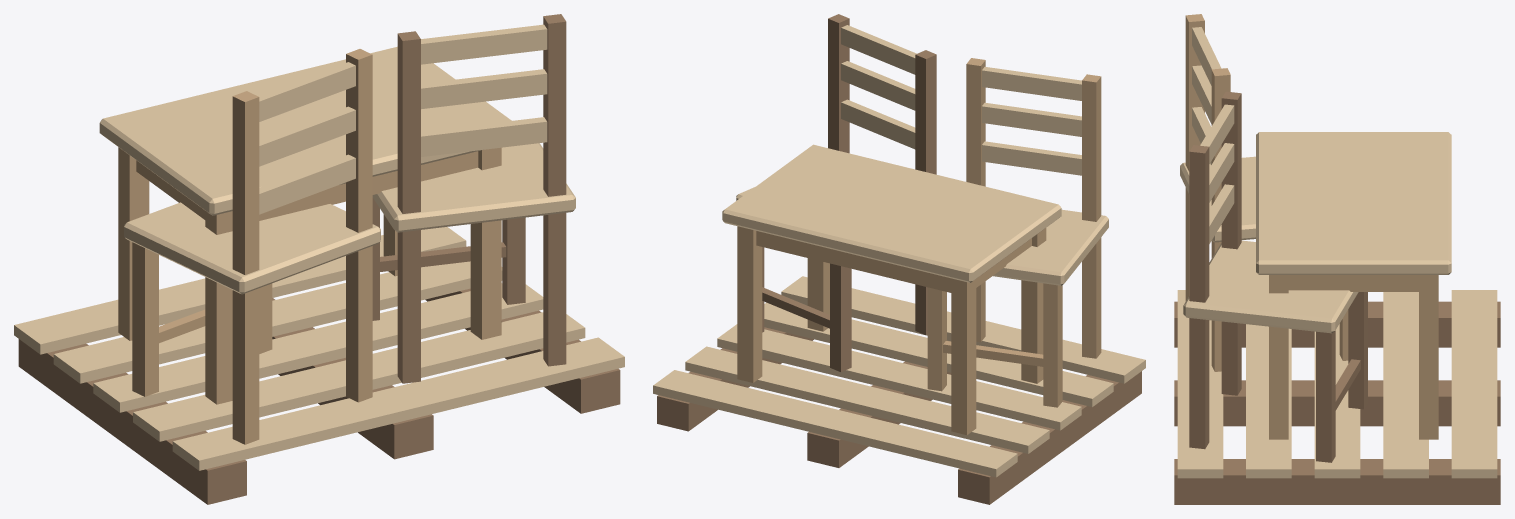
Rendered from FurniturePiece.fbx.
The picture shows the model from 3 angles, left to right: view 1: azimuth 30°, elevation 25°; view 2: azimuth 150°, elevation 25°; view 3: azimuth 270°, elevation 25°; orthographic projection. The views are drawn at different scales.
Visible parts, largest first — view 1: FurniturePiece_Mesh; view 2: FurniturePiece_Mesh; view 3: FurniturePiece_Mesh.
Part boxes in pixels (bbox=[...]): FurniturePiece_Mesh: bbox=[14, 14, 624, 504]; FurniturePiece_Mesh: bbox=[653, 14, 1145, 504]; FurniturePiece_Mesh: bbox=[1174, 14, 1500, 504].
Size of the model in its own units: 1.3 by 1.13 by 1.
